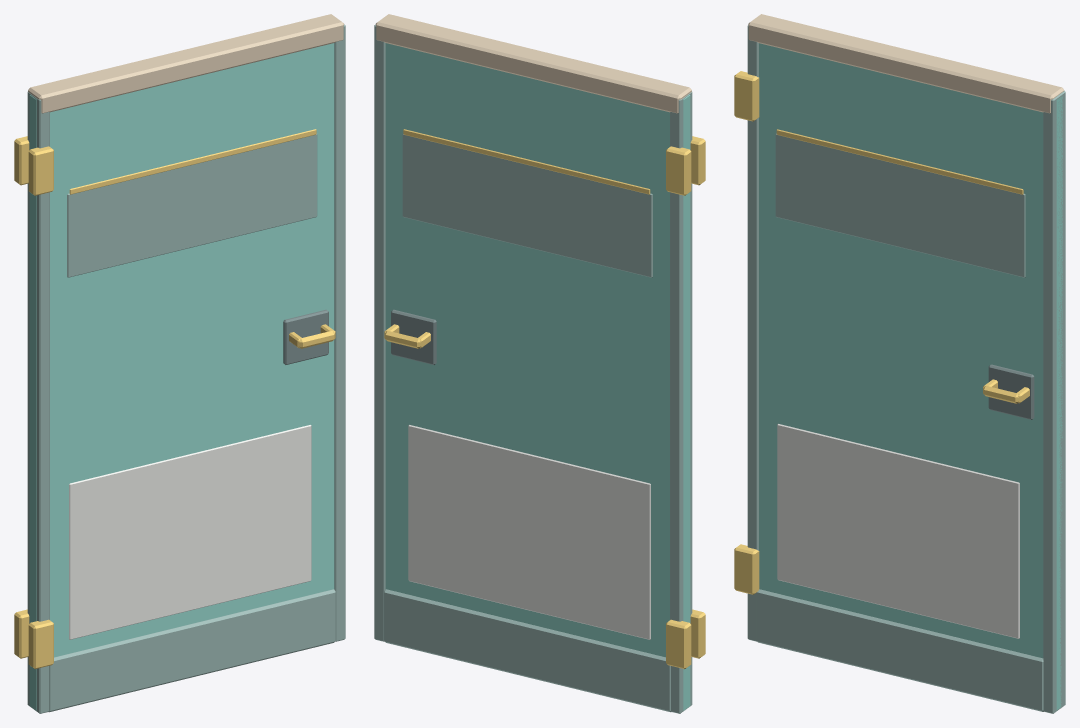
The model's file is Facilities-CivicStallDoor.fbx.
3 views of the same model, side by side, from view 1: azimuth 30°, elevation 25°; view 2: azimuth 150°, elevation 25°; view 3: azimuth 330°, elevation 25° (orthographic).
Visible parts, largest first — view 1: Facilities-CivicStallDoor Mesh; view 2: Facilities-CivicStallDoor Mesh; view 3: Facilities-CivicStallDoor Mesh.
Part boxes in pixels (x1=…): Facilities-CivicStallDoor Mesh: x1=14, y1=14, x2=345, y2=713; Facilities-CivicStallDoor Mesh: x1=374, y1=14, x2=705, y2=713; Facilities-CivicStallDoor Mesh: x1=734, y1=14, x2=1065, y2=713.
Bounding box in the file's own units: 0.867 × 1.62 × 0.184.
